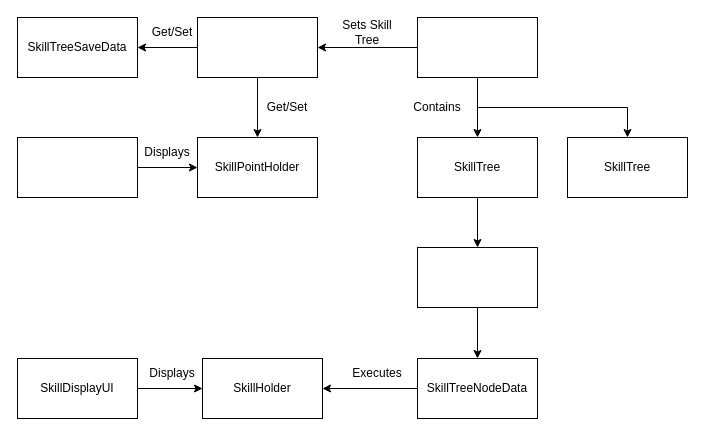
Image size: 705x436. Some labels were removed from this diagram. Each missing label, with the box of its shape:
SkillPointUI: (16, 136, 138, 198)
SkillTreeNode: (416, 246, 538, 308)
SkillTreeTabUI: (416, 16, 538, 78)
SkillTreeUI: (196, 16, 318, 78)
